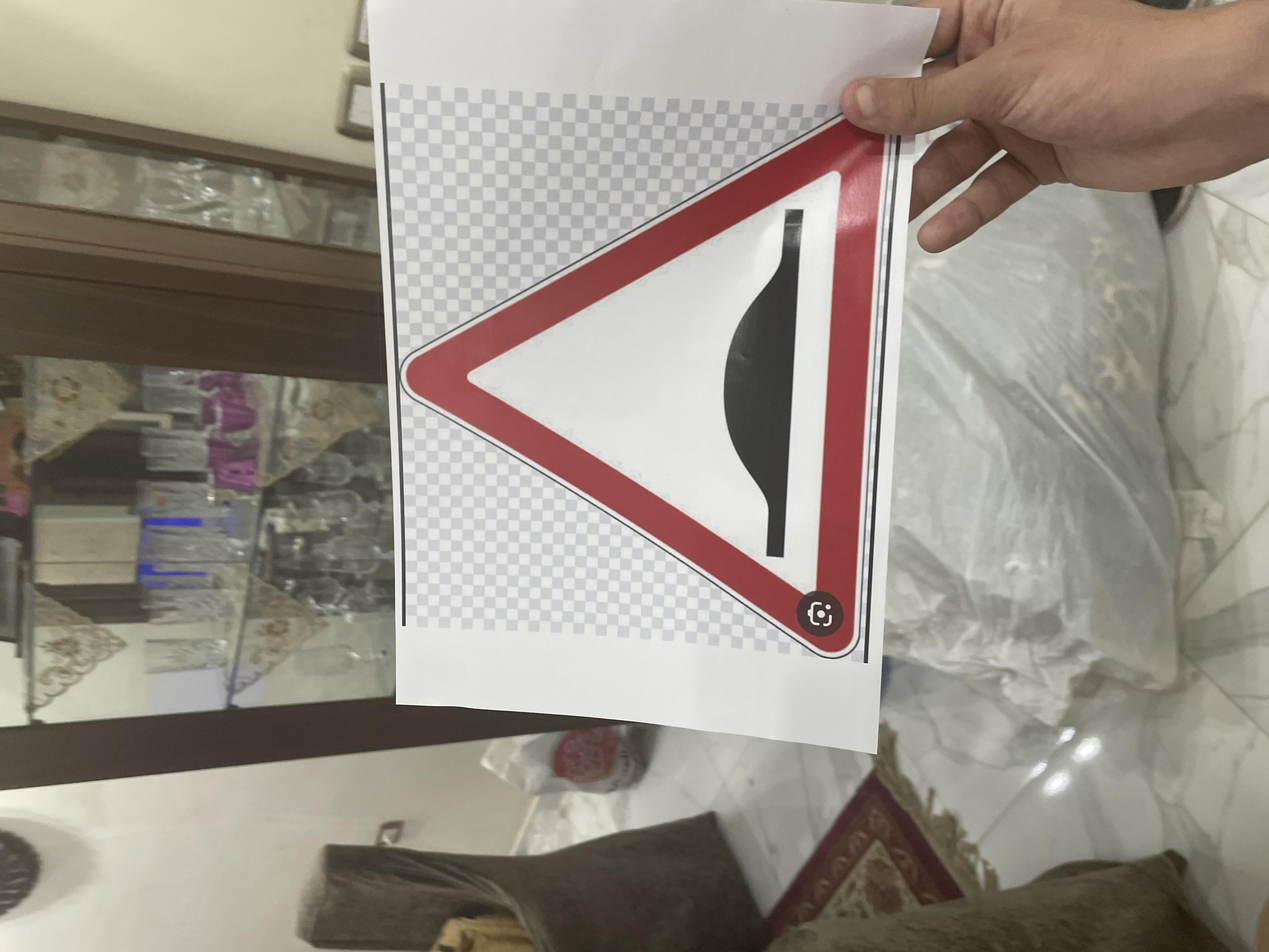Hump: (381, 296, 1113, 672)
